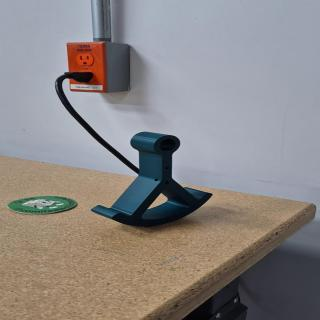haptic: (90, 131, 214, 227)
